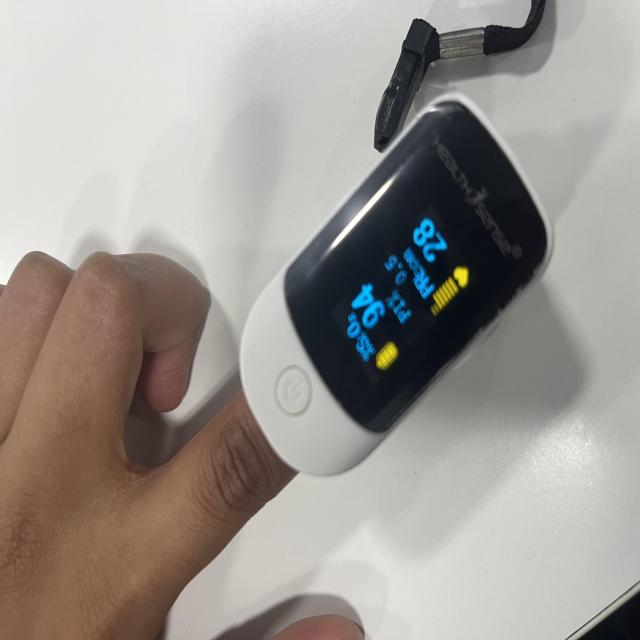spo2: (238, 92, 554, 481)
